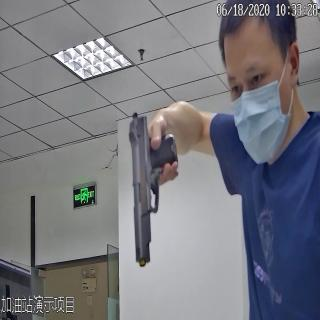gun: (128, 111, 178, 271)
